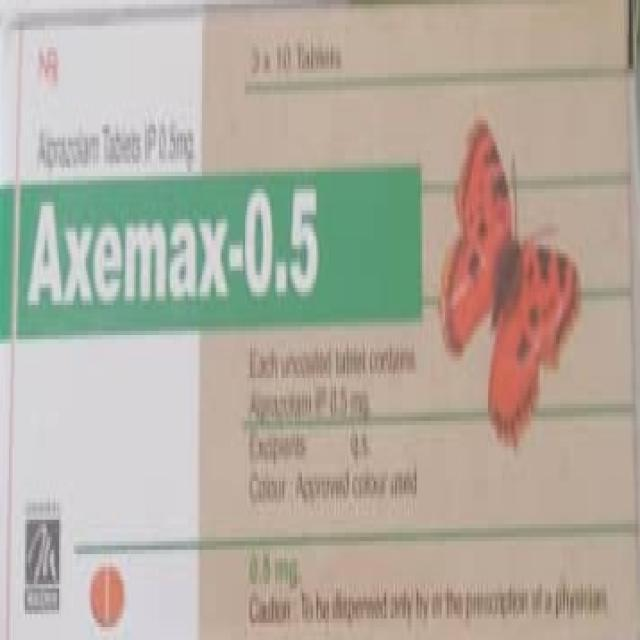drug-name: (24, 187, 324, 306)
